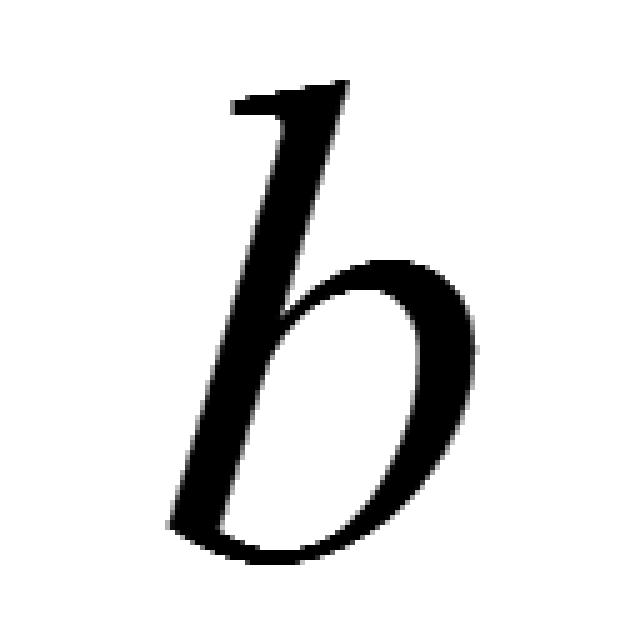B: (165, 80, 475, 570)
